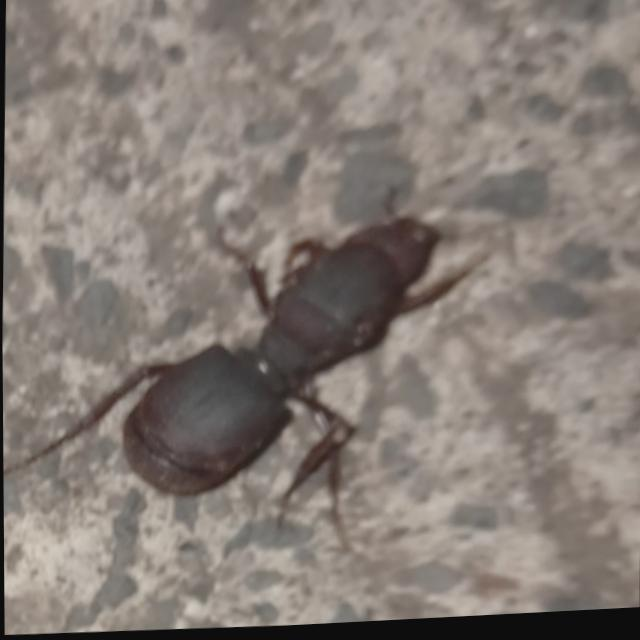Alive-Female-Dealate: (1, 175, 521, 571)
